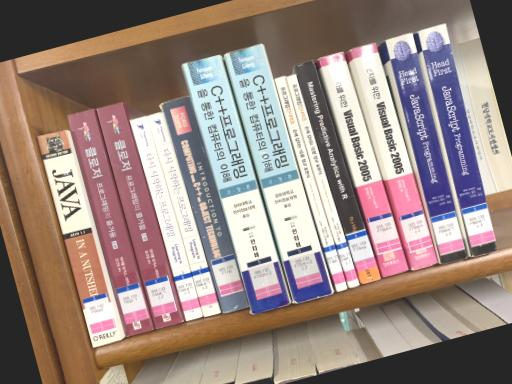book-spine: (225, 43, 333, 303), (182, 54, 290, 313), (318, 51, 408, 277), (67, 108, 155, 337), (350, 41, 437, 270), (95, 102, 183, 328), (293, 60, 382, 283), (160, 95, 249, 313), (385, 32, 467, 263), (418, 23, 498, 256), (36, 130, 121, 347), (274, 76, 347, 291), (285, 74, 358, 287), (130, 116, 203, 321), (147, 111, 220, 316)
